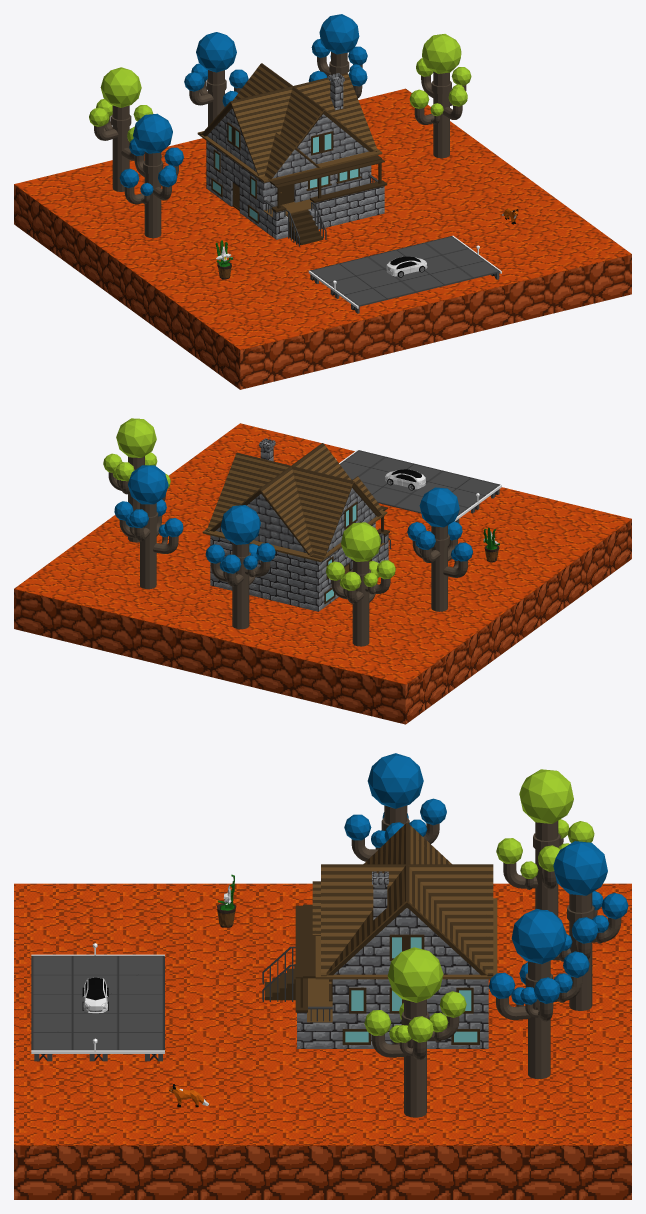
3 renders of one model, top to bottom at view 1: azimuth 30°, elevation 25°; view 2: azimuth 150°, elevation 25°; view 3: azimuth 270°, elevation 25°, orthographic. The views are drawn at different scales.
Visible parts, largest first — view 1: Cube.001, Cube.586, VEHICLES_TESLA; view 2: Cube.001, Cube.586, VEHICLES_TESLA; view 3: Cube.001, Cube.586, VEHICLES_TESLA.
Part boxes in pixels (x1,y1,x2,y2): Cube.001: [14, 14, 631, 389]; Cube.586: [197, 63, 387, 246]; VEHICLES_TESLA: [386, 256, 427, 277]; Cube.001: [14, 418, 631, 724]; Cube.586: [202, 438, 390, 611]; VEHICLES_TESLA: [385, 469, 425, 490]; Cube.001: [14, 753, 631, 1199]; Cube.586: [262, 823, 497, 1048]; VEHICLES_TESLA: [82, 977, 108, 1013].
Bounding box in the file's own units: 4000 × 1664 × 4000.
Materials: 35 (5 with a texture image).
